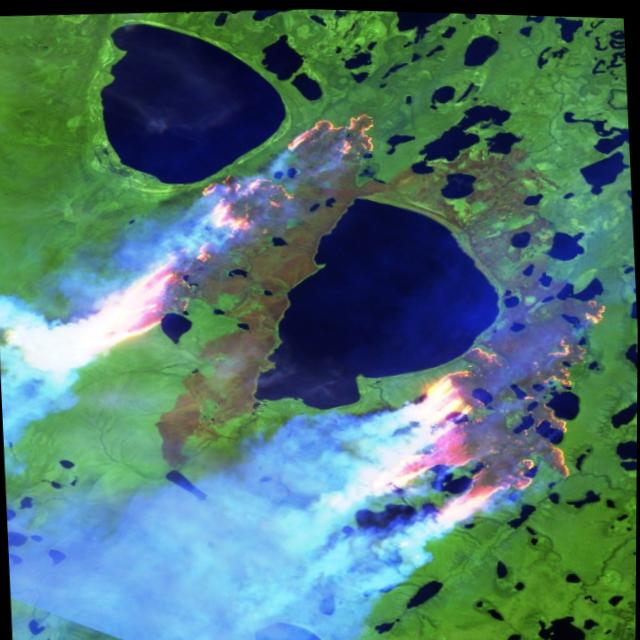fire: (0, 83, 640, 567)
